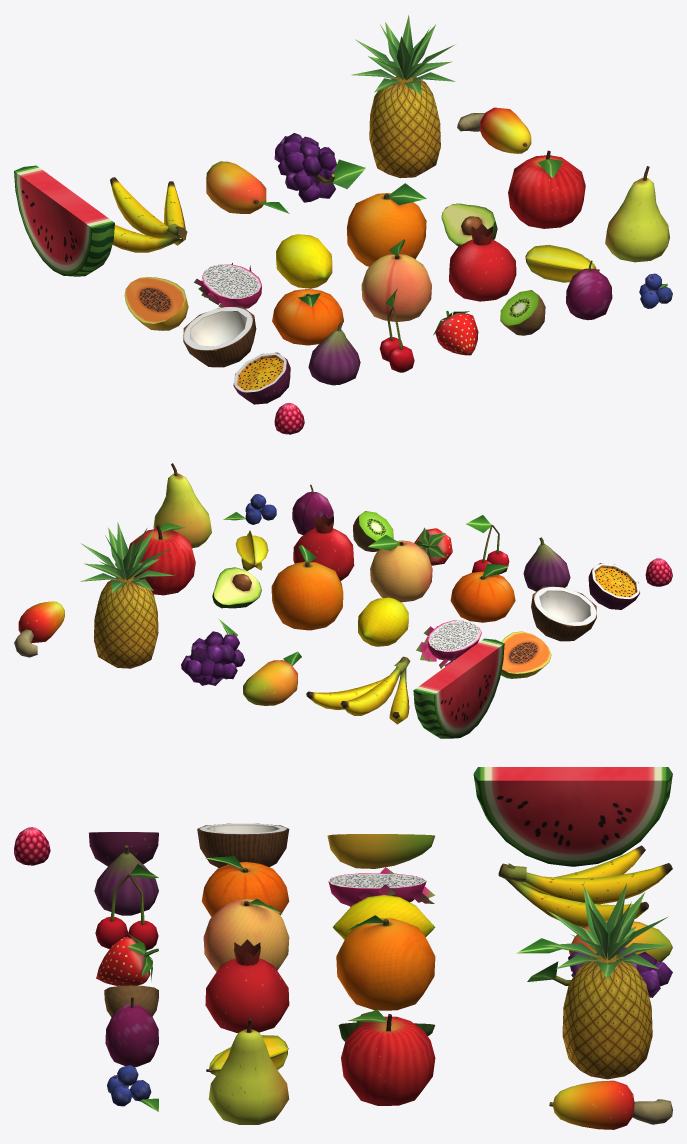
File: fruit_pack.glb
3 views of the same model, one above another, from view 1: azimuth 30°, elevation 25°; view 2: azimuth 150°, elevation 25°; view 3: azimuth 270°, elevation 25° (orthographic). The views are drawn at different scales.
Parts seen in each view (by area): view 1: Pineapple, WatermelonSlice, Orange, Apple, Peach, Pear, Pomegranate, Grapes, CoconutHalf, Bananas, Tangerine, PapayaHalf (+14 smaller); view 2: Pineapple, WatermelonSlice, Orange, Peach, Apple, CoconutHalf, Tangerine, Bananas, Grapes, Pear, Pomegranate, Mango (+14 smaller); view 3: WatermelonSlice, Pineapple, Orange, Apple, Bananas, Pomegranate, Pear, Peach, Cashew, Tangerine, CoconutHalf, PapayaHalf (+13 smaller).
Part boxes in pixels (box(x1,y1,x2,y2)): Pineapple: box(351, 15, 455, 178); WatermelonSlice: box(14, 165, 114, 276); Orange: box(346, 183, 426, 266); Apple: box(508, 150, 585, 228); Peach: box(361, 239, 431, 321); Pear: box(605, 166, 669, 262); Pomegranate: box(449, 224, 516, 301); Grapes: box(274, 133, 365, 202); CoconutHalf: box(183, 306, 256, 367); Bananas: box(110, 177, 187, 252); Tangerine: box(272, 289, 343, 345); PapayaHalf: box(124, 277, 188, 330); Pineapple: box(80, 522, 174, 668); WatermelonSlice: box(413, 638, 504, 738); Orange: box(271, 545, 343, 630); Peach: box(368, 535, 432, 602); Apple: box(128, 521, 195, 595); CoconutHalf: box(531, 586, 596, 641); Tangerine: box(450, 563, 515, 622); Bananas: box(306, 656, 410, 724); Grapes: box(181, 618, 244, 685); Pear: box(153, 463, 211, 548); Pomegranate: box(293, 514, 354, 580); Mango: box(243, 651, 301, 705); WatermelonSlice: box(473, 767, 672, 866); Pineapple: box(543, 883, 671, 1079); Orange: box(336, 915, 435, 1010); Apple: box(341, 1009, 435, 1105); Bananas: box(498, 845, 672, 928); Pomegranate: box(205, 939, 289, 1032); Pear: box(208, 1018, 289, 1124); Peach: box(203, 899, 289, 971); Cashew: box(549, 1080, 672, 1129); Tangerine: box(201, 856, 289, 916); CoconutHalf: box(197, 823, 289, 867); PapayaHalf: box(327, 834, 434, 868).
Size of the model in its own units: 2.12 by 0.6304 by 2.07.
3 materials, 3 textured.
